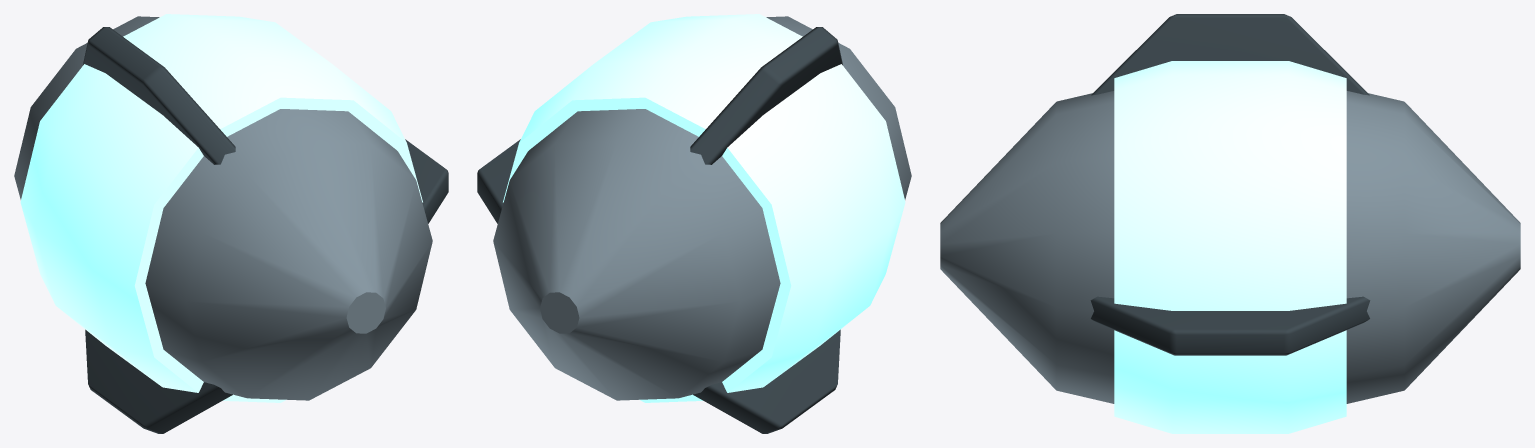
File: zb_plasma_whip.glb
3 views of the same model, side by side, from view 1: azimuth 30°, elevation 25°; view 2: azimuth 150°, elevation 25°; view 3: azimuth 270°, elevation 25° (orthographic).
Parts seen in each view (by area): view 1: zb_plasma_whip / Machined titanium, zb_plasma_whip / Ion exhaust, zb_plasma_whip / Carbon ceramic; view 2: zb_plasma_whip / Machined titanium, zb_plasma_whip / Ion exhaust, zb_plasma_whip / Carbon ceramic; view 3: zb_plasma_whip / Ion exhaust, zb_plasma_whip / Machined titanium, zb_plasma_whip / Carbon ceramic.
Part boxes in pixels (<box>): zb_plasma_whip / Machined titanium: <box>14,16,432,400</box>; zb_plasma_whip / Ion exhaust: <box>20,14,422,402</box>; zb_plasma_whip / Carbon ceramic: <box>83,27,448,433</box>; zb_plasma_whip / Machined titanium: <box>493,16,911,400</box>; zb_plasma_whip / Ion exhaust: <box>503,14,905,402</box>; zb_plasma_whip / Carbon ceramic: <box>477,27,842,433</box>; zb_plasma_whip / Ion exhaust: <box>1114,61,1346,433</box>; zb_plasma_whip / Machined titanium: <box>940,91,1520,403</box>; zb_plasma_whip / Carbon ceramic: <box>1090,14,1370,355</box>.
Size of the model in its own units: 7.25 by 7.1 by 10.
